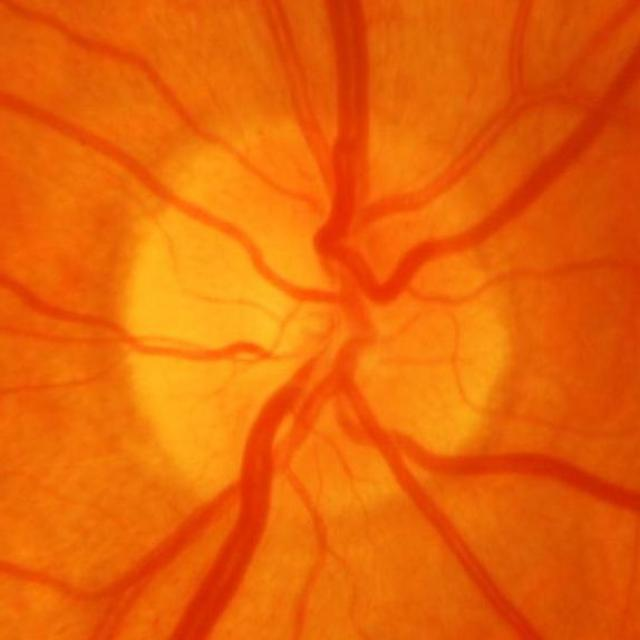OC: (230, 264, 361, 382)
OD: (120, 117, 518, 516)
